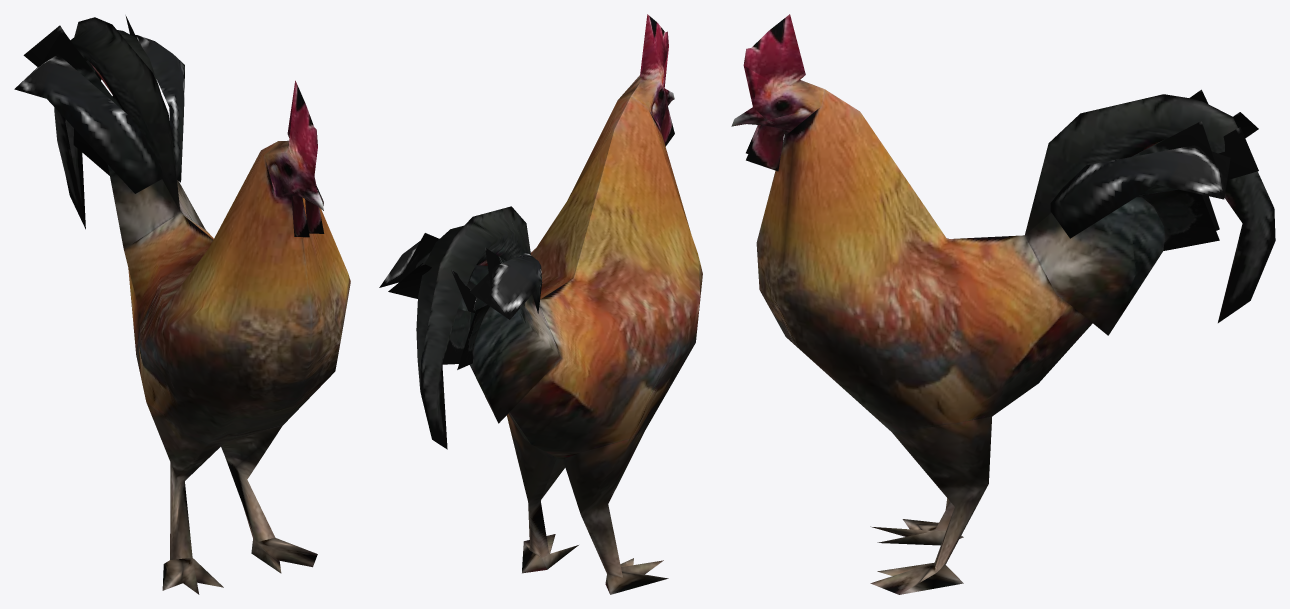
The model's file is Chicken.glb.
3 views of the same model, side by side, from view 1: azimuth 30°, elevation 25°; view 2: azimuth 150°, elevation 25°; view 3: azimuth 270°, elevation 25° (orthographic). The views are drawn at different scales.
Parts seen in each view (by area): view 1: Obj3d66-11631636-2-215; view 2: Obj3d66-11631636-2-215; view 3: Obj3d66-11631636-2-215.
Part boxes in pixels (box(x1,y1,x2,y2)): Obj3d66-11631636-2-215: box(14, 15, 350, 594); Obj3d66-11631636-2-215: box(379, 14, 702, 594); Obj3d66-11631636-2-215: box(731, 14, 1275, 594).
Bounding box in the file's own units: 0.2574 × 0.7321 × 0.6604.
Materials: 1 (1 with a texture image).
